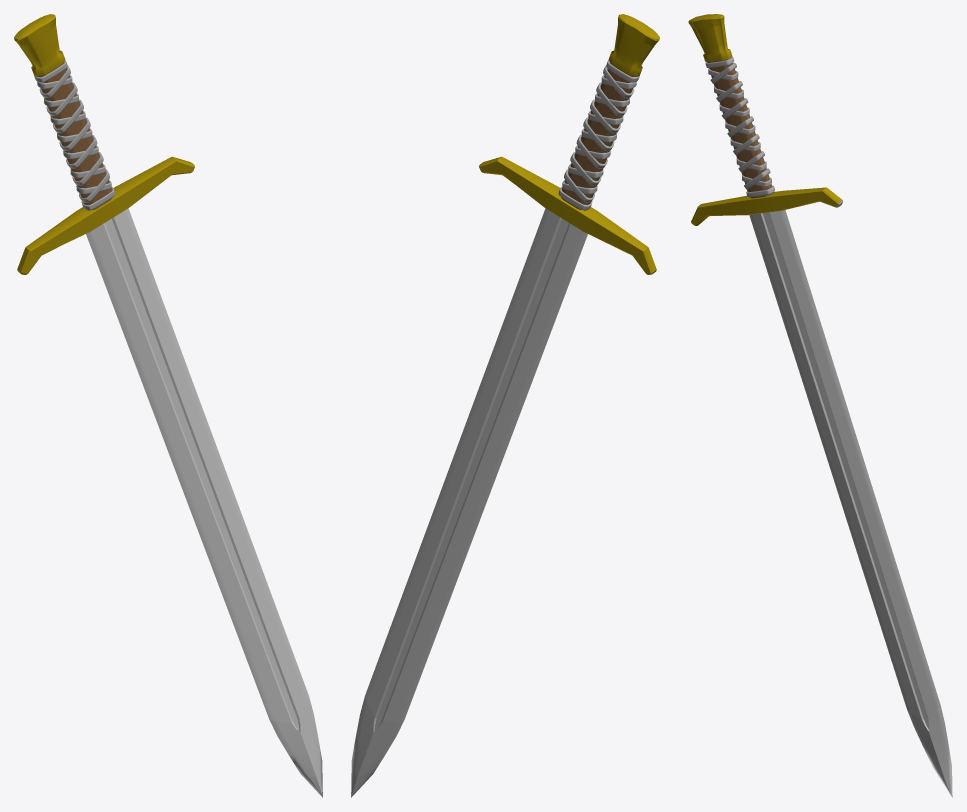
File: medieval_sword.fbx
3 views of the same model, side by side, from view 1: azimuth 30°, elevation 25°; view 2: azimuth 150°, elevation 25°; view 3: azimuth 330°, elevation 25° (orthographic). The views are drawn at different scales.
Parts seen in each view (by area): view 1: SWORD_EXPORT; view 2: SWORD_EXPORT; view 3: SWORD_EXPORT.
Boxes of the visible parts, x1,y1,x2,y2 form: SWORD_EXPORT: (14,14,322,797); SWORD_EXPORT: (351,14,659,797); SWORD_EXPORT: (688,14,952,797).
Bounding box in the file's own units: 3.93 × 10.34 × 0.2027.
